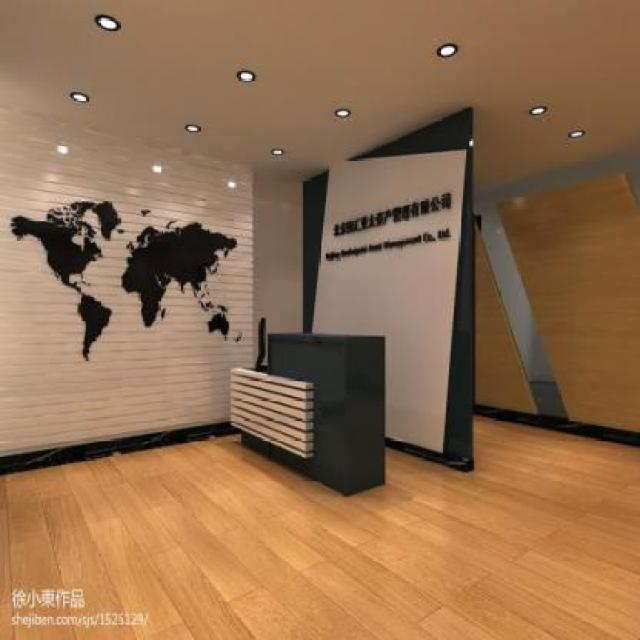frontdesk: (228, 320, 393, 501)
